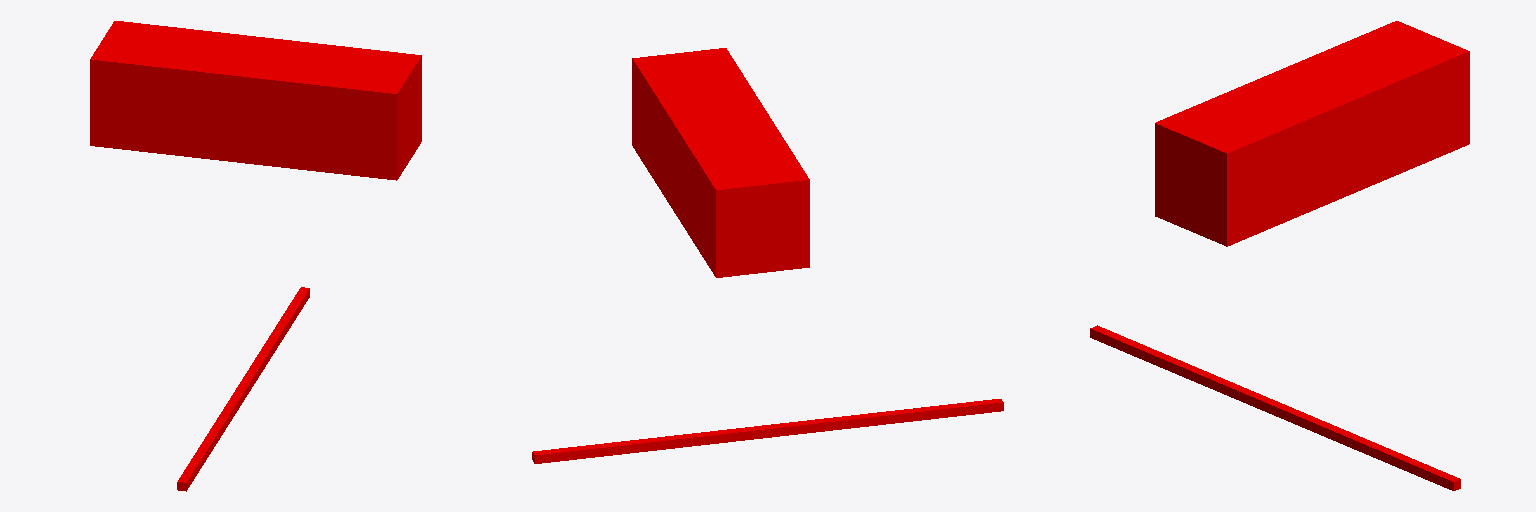
robot.urdf — panda:
<?xml version="1.0" ?>
<!-- =================================================================================== -->
<!-- |    This document was autogenerated by xacro from panda_arm_hand.urdf.xacro      | -->
<!-- |    EDITING THIS FILE BY HAND IS NOT RECOMMENDED                                 | -->
<!-- =================================================================================== -->
<robot name="panda"
  xmlns:xacro="http://www.ros.org/wiki/xacro">
  <link name="panda_link0">
    <inertial>
      <origin rpy="0 0 0" xyz="0 0 0.05"/>
      <mass value="2.9"/>
      <inertia ixx="0.1" ixy="0" ixz="0" iyy="0.1" iyz="0" izz="0.1"/>
    </inertial>
    <visual>
      <geometry>
        <mesh filename="package://meshes/collision/link0.obj"/>
      </geometry>
      <material name="panda_white">
        <color rgba="1. 1. 1. 1."/>
      </material>
    </visual>
    <collision>
      <geometry>
        <mesh filename="package://meshes/collision/link0.obj"/>
      </geometry>
      <material name="panda_white"/>
    </collision>
  </link>
  <link name="panda_link1">
    <inertial>
      <origin rpy="0 0 0" xyz="0 -0.04 -0.05"/>
      <mass value="2.7"/>
      <inertia ixx="0.1" ixy="0" ixz="0" iyy="0.1" iyz="0" izz="0.1"/>
    </inertial>
    <visual>
      <geometry>
        <mesh filename="package://meshes/visual/link1.obj"/>
      </geometry>
      <material name="panda_white"/>
    </visual>
    <collision>
      <geometry>
        <mesh filename="package://meshes/collision/link1.obj"/>
      </geometry>
      <material name="panda_white"/>
    </collision>
  </link>
  <joint name="panda_joint1" type="revolute">
    <safety_controller k_position="100.0" k_velocity="40.0" soft_lower_limit="-2.8973" soft_upper_limit="2.8973"/>
    <origin rpy="0 0 0" xyz="0 0 0.333"/>
    <parent link="panda_link0"/>
    <child link="panda_link1"/>
    <axis xyz="0 0 1"/>
    <limit effort="87" lower="-2.9671" upper="2.9671" velocity="2.1750"/>
  </joint>
  <link name="panda_link2">
    <inertial>
      <origin rpy="0 0 0" xyz="0 -0.04 0.06"/>
      <mass value="2.73"/>
      <inertia ixx="0.1" ixy="0" ixz="0" iyy="0.1" iyz="0" izz="0.1"/>
    </inertial>
    <visual>
      <geometry>
        <mesh filename="package://meshes/visual/link2.obj"/>
      </geometry>
      <material name="panda_white"/>
    </visual>
    <collision>
      <geometry>
        <mesh filename="package://meshes/collision/link2.obj"/>
      </geometry>
      <material name="panda_white"/>
    </collision>
  </link>
  <joint name="panda_joint2" type="revolute">
    <safety_controller k_position="100.0" k_velocity="40.0" soft_lower_limit="-1.7628" soft_upper_limit="1.7628"/>
    <origin rpy="-1.57079632679 0 0" xyz="0 0 0"/>
    <parent link="panda_link1"/>
    <child link="panda_link2"/>
    <axis xyz="0 0 1"/>
    <limit effort="87" lower="-1.8326" upper="1.8326" velocity="2.1750"/>
  </joint>
  <link name="panda_link3">
    <inertial>
      <origin rpy="0 0 0" xyz="0.01 0.01 -0.05"/>
      <mass value="2.04"/>
      <inertia ixx="0.1" ixy="0" ixz="0" iyy="0.1" iyz="0" izz="0.1"/>
    </inertial>
    <visual>
      <geometry>
        <mesh filename="package://meshes/visual/link3.obj"/>
      </geometry>
      <material name="panda_red">
        <color rgba="1. 1. 1. 1."/>
      </material>
    </visual>
    <collision>
      <geometry>
        <mesh filename="package://meshes/collision/link3.obj"/>
      </geometry>
    </collision>
  </link>
  <joint name="panda_joint3" type="revolute">
    <safety_controller k_position="100.0" k_velocity="40.0" soft_lower_limit="-2.8973" soft_upper_limit="2.8973"/>
    <origin rpy="1.57079632679 0 0" xyz="0 -0.316 0"/>
    <parent link="panda_link2"/>
    <child link="panda_link3"/>
    <axis xyz="0 0 1"/>
    <limit effort="87" lower="-2.9671" upper="2.9671" velocity="2.1750"/>
  </joint>
  <link name="panda_link4">
    <inertial>
      <origin rpy="0 0 0" xyz="-0.03 0.03 0.02"/>
      <mass value="2.08"/>
      <inertia ixx="0.1" ixy="0" ixz="0" iyy="0.1" iyz="0" izz="0.1"/>
    </inertial>
    <visual>
      <geometry>
        <mesh filename="package://meshes/visual/link4.obj"/>
      </geometry>
      <material name="panda_white"/>
    </visual>
    <collision>
      <geometry>
        <mesh filename="package://meshes/collision/link4.obj"/>
      </geometry>
      <material name="panda_white"/>
    </collision>
  </link>
  <joint name="panda_joint4" type="revolute">
    <safety_controller k_position="100.0" k_velocity="40.0" soft_lower_limit="-3.0718" soft_upper_limit="-0.0698"/>
    <origin rpy="1.57079632679 0 0" xyz="0.0825 0 0"/>
    <parent link="panda_link3"/>
    <child link="panda_link4"/>
    <axis xyz="0 0 1"/>
    <limit effort="87" lower="-3.1416" upper="0.0" velocity="2.1750"/>
  </joint>
  <link name="panda_link5">
    <inertial>
      <origin rpy="0 0 0" xyz="0 0.04 -0.12"/>
      <mass value="3"/>
      <inertia ixx="0.1" ixy="0" ixz="0" iyy="0.1" iyz="0" izz="0.1"/>
    </inertial>
    <visual>
      <geometry>
        <mesh filename="package://meshes/visual/link5.obj"/>
      </geometry>
      <material name="panda_white"/>
    </visual>
    <collision>
      <geometry>
        <mesh filename="package://meshes/collision/link5.obj"/>
      </geometry>
      <material name="panda_white"/>
    </collision>
  </link>
  <joint name="panda_joint5" type="revolute">
    <safety_controller k_position="100.0" k_velocity="40.0" soft_lower_limit="-2.8973" soft_upper_limit="2.8973"/>
    <origin rpy="-1.57079632679 0 0" xyz="-0.0825 0.384 0"/>
    <parent link="panda_link4"/>
    <child link="panda_link5"/>
    <axis xyz="0 0 1"/>
    <limit effort="12" lower="-2.9671" upper="2.9671" velocity="2.6100"/>
  </joint>
  <link name="panda_link6">
    <inertial>
      <origin rpy="0 0 0" xyz="0.04 0 0"/>
      <mass value="1.3"/>
      <inertia ixx="0.1" ixy="0" ixz="0" iyy="0.1" iyz="0" izz="0.1"/>
    </inertial>
    <visual>
      <geometry>
        <mesh filename="package://meshes/visual/link6.obj"/>
      </geometry>
      <material name="panda_white"/>
    </visual>
    <collision>
      <geometry>
        <mesh filename="package://meshes/collision/link6.obj"/>
      </geometry>
      <material name="panda_white"/>
    </collision>
  </link>
  <joint name="panda_joint6" type="revolute">
    <safety_controller k_position="100.0" k_velocity="40.0" soft_lower_limit="-0.0175" soft_upper_limit="3.7525"/>
    <origin rpy="1.57079632679 0 0" xyz="0 0 0"/>
    <parent link="panda_link5"/>
    <child link="panda_link6"/>
    <axis xyz="0 0 1"/>
    <limit effort="12" lower="-0.0873" upper="3.8223" velocity="2.6100"/>
  </joint>
  <link name="panda_link7">
    <inertial>
      <origin rpy="0 0 0" xyz="0 0 0.08"/>
      <mass value=".2"/>
      <inertia ixx="0.1" ixy="0" ixz="0" iyy="0.1" iyz="0" izz="0.1"/>
    </inertial>
    <visual>
      <geometry>
        <mesh filename="package://meshes/collision/link7.obj"/>
      </geometry>
      <material name="panda_white"/>
    </visual>
    <collision>
      <geometry>
        <mesh filename="package://meshes/collision/link7.obj"/>
      </geometry>
      <material name="panda_white"/>
    </collision>
  </link>
  <joint name="panda_joint7" type="revolute">
    <safety_controller k_position="100.0" k_velocity="40.0" soft_lower_limit="-2.8973" soft_upper_limit="2.8973"/>
    <origin rpy="1.57079632679 0 0" xyz="0.088 0 0"/>
    <parent link="panda_link6"/>
    <child link="panda_link7"/>
    <axis xyz="0 0 1"/>
    <limit effort="12" lower="-2.9671" upper="2.9671" velocity="2.6100"/>
  </joint>
  <link name="panda_link8">
    <inertial>
      <origin rpy="0 0 0" xyz="0 0 0"/>
      <mass value="0.0"/>
      <inertia ixx="0.1" ixy="0" ixz="0" iyy="0.1" iyz="0" izz="0.1"/>
    </inertial>
  </link>
  <joint name="panda_joint8" type="fixed">
    <origin rpy="0 0 0" xyz="0 0 0.107"/>
    <parent link="panda_link7"/>
    <child link="panda_link8"/>
    <axis xyz="0 0 0"/>
  </joint>
  <joint name="panda_hand_joint" type="fixed">
    <parent link="panda_link8"/>
    <child link="panda_hand"/>
    <origin rpy="0 0 -0.785398163397" xyz="0 0 0"/>
  </joint>
  <link name="panda_hand">
    <inertial>
      <origin rpy="0 0 0" xyz="0 0 0.04"/>
      <mass value=".81"/>
      <inertia ixx="0.1" ixy="0" ixz="0" iyy="0.1" iyz="0" izz="0.1"/>
    </inertial>
    <visual>
      <geometry>
        <mesh filename="package://meshes/visual/hand.obj"/>
      </geometry>
      <material name="panda_white"/>
    </visual>
    <collision>
      <geometry>
        <mesh filename="package://meshes/collision/hand.obj"/>
      </geometry>
      <material name="panda_white"/>
    </collision>
  </link>

  <link name="cam">
    <contact>
      <friction_anchor/>
      <stiffness value="30000.0"/>
      <damping value="1000.0"/>
      <spinning_friction value="0.1"/>
      <lateral_friction value="1.0"/>
    </contact>
    <inertial>
      <origin rpy="0 0 0" xyz="0 0 0"/>
      <mass value="0.1"/>
      <inertia ixx="0.1" ixy="0" ixz="0" iyy="0.1" iyz="0" izz="0.1"/>
    </inertial>
    <visual>
      <origin rpy="0 0 0" xyz="-0.06 0 -0.035"/>
      <geometry>
        <box size="0.03 0.1 0.03"/>
      </geometry>
      <material name="stick_red">
        <color rgba="1 0.0 0.0 1"/>
      </material>
    </visual>
    <collision>
      <origin rpy="0 0 0" xyz="-0.06 0 -0.035"/>
      <geometry>
        <box size="0.03 0.1 0.03"/>
      </geometry>
    </collision>
  </link>
  <joint name="cam_joint" type="fixed">
    <parent link="panda_hand"/>
    <child link="cam"/>
    <origin rpy="0 0 0" xyz="0 -0.005 0.05"/>
  </joint>

  <link name="panda_leftfinger">
    <contact>
      <friction_anchor/>
      <stiffness value="30000.0"/>
      <damping value="1000.0"/>
      <spinning_friction value="0.1"/>
      <lateral_friction value="1.0"/>
    </contact>
    <inertial>
      <origin rpy="0 0 0" xyz="0 0.01 0.02"/>
      <mass value="0.1"/>
      <inertia ixx="0.1" ixy="0" ixz="0" iyy="0.1" iyz="0" izz="0.1"/>
    </inertial>
    <visual>
      <geometry>
        <mesh filename="package://meshes/visual/finger.obj"/>
      </geometry>
      <material name="panda_white"/>
    </visual>
    <collision>
      <geometry>
        <mesh filename="package://meshes/collision/finger.obj"/>
      </geometry>
      <material name="panda_white"/>
    </collision>
  </link>
  <link name="panda_rightfinger">
    <contact>
      <friction_anchor/>
      <stiffness value="30000.0"/>
      <damping value="1000.0"/>
      <spinning_friction value="0.1"/>
      <lateral_friction value="1.0"/>
    </contact>
    <inertial>
      <origin rpy="0 0 0" xyz="0 -0.01 0.02"/>
      <mass value="0.1"/>
      <inertia ixx="0.1" ixy="0" ixz="0" iyy="0.1" iyz="0" izz="0.1"/>
    </inertial>
    <visual>
      <origin rpy="0 0 3.14159265359" xyz="0 0 0"/>
      <geometry>
        <mesh filename="package://meshes/visual/finger.obj"/>
      </geometry>
      <material name="panda_white"/>
    </visual>
    <collision>
      <origin rpy="0 0 3.14159265359" xyz="0 0 0"/>
      <geometry>
        <mesh filename="package://meshes/collision/finger.obj"/>
      </geometry>
      <material name="panda_white"/>
    </collision>
  </link>

  <link name="stick">
    <contact>
      <friction_anchor/>
      <stiffness value="30000.0"/>
      <damping value="1000.0"/>
      <spinning_friction value="0.1"/>
      <lateral_friction value="1.0"/>
    </contact>
    <inertial>
      <origin rpy="0 0 0" xyz="0 0 0"/>
      <mass value="0.1"/>
      <inertia ixx="0.1" ixy="0" ixz="0" iyy="0.1" iyz="0" izz="0.1"/>
    </inertial>
    <visual>
      <origin rpy="0 0 0" xyz="-0.075 0 0"/>
      <geometry>
        <box size="0.15 0.003 0.003"/>
      </geometry>
      <material name="stick_red">
        <color rgba="1 0.0 0.0 1"/>
      </material>
    </visual>
    <collision>
      <origin rpy="0 0 0" xyz="-0.075 0 0"/>
      <geometry>
        <box size="0.15 0.003 0.003"/>
      </geometry>
    </collision>
  </link>
  <joint name="stick_finger_joint" type="fixed">
    <parent link="panda_rightfinger"/>
    <child link="stick"/>
    <origin rpy="0 0 0" xyz="0 -0.005 0.05"/>
  </joint>

  <link name="sticktarget">
    <inertial>
      <origin rpy="0 0 0" xyz="0 0 0"/>
      <mass value="0.0"/>
      <inertia ixx="0.1" ixy="0" ixz="0" iyy="0.1" iyz="0" izz="0.1"/>
    </inertial>
  </link>
  <joint name="sticktarget_hand" type="fixed">
    <parent link="stick"/>
    <child link="sticktarget"/>
    <origin rpy="0 0 0" xyz="-0.15 0 0"/>
  </joint>

  <joint name="panda_finger_joint1" type="prismatic">
    <parent link="panda_hand"/>
    <child link="panda_leftfinger"/>
    <origin rpy="0 0 0" xyz="0 0 0.0584"/>
    <axis xyz="0 1 0"/>
    <limit effort="20" lower="0.0" upper="0.04" velocity="0.2"/>
  </joint>
  <joint name="panda_finger_joint2" type="prismatic">
    <parent link="panda_hand"/>
    <child link="panda_rightfinger"/>
    <origin rpy="0 0 0" xyz="0 0 0.0584"/>
    <axis xyz="0 -1 0"/>
    <limit effort="20" lower="0.0" upper="0.04" velocity="0.2"/>
    <mimic joint="panda_finger_joint1"/>
  </joint>
  <link name="panda_grasptarget">
    <inertial>
      <origin rpy="0 0 0" xyz="0 0 0"/>
      <mass value="0.0"/>
      <inertia ixx="0.1" ixy="0" ixz="0" iyy="0.1" iyz="0" izz="0.1"/>
    </inertial>
  </link>
  <joint name="panda_grasptarget_hand" type="fixed">
    <parent link="panda_hand"/>
    <child link="panda_grasptarget"/>
    <origin rpy="0 0 0" xyz="0 0 0.105"/>
  </joint>

</robot>

--- Render facts (derived) ---
The picture shows the robot from 3 angles, left to right: view 1: azimuth 30°, elevation 25°; view 2: azimuth 150°, elevation 25°; view 3: azimuth 270°, elevation 25°; orthographic projection.
Model panda with 16 links and 15 joints (7 revolute, 2 prismatic, 6 fixed), rooted at panda_link0, posed every joint at zero.
Links seen in each view (by area): view 1: cam, stick; view 2: cam, stick; view 3: cam, stick.
Link boxes in pixels (x1,y1,x2,y2): cam: [90, 21, 421, 180]; stick: [177, 287, 309, 491]; cam: [632, 48, 809, 277]; stick: [532, 399, 1003, 463]; cam: [1155, 21, 1469, 246]; stick: [1090, 325, 1460, 490].
Bounding box of the posed robot: 0.1107 × 0.1107 × 0.1099 m (x, y, z).
0 mesh visuals loaded from 10 distinct referenced files (none loaded); not drawn: 11 (reference not matched to a file when rendering).